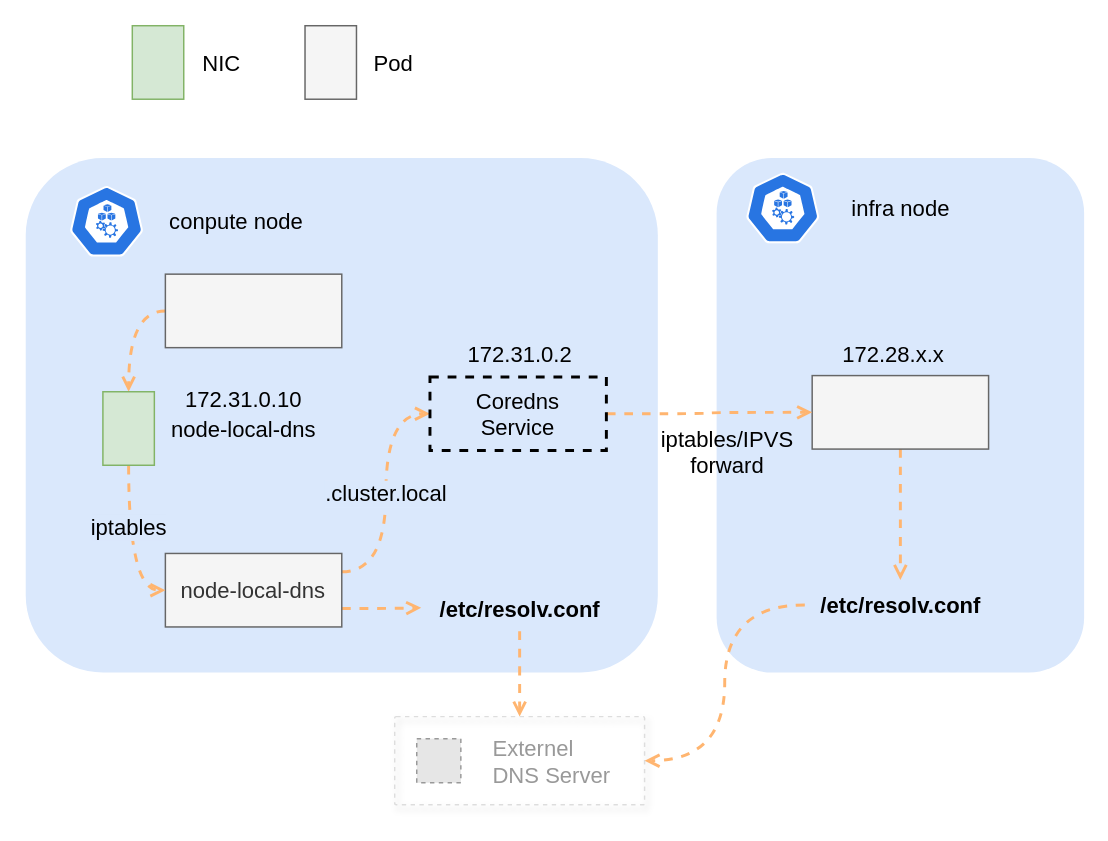
Image size: 1108x841. Some labels were removed from this diagram. Grey dashed boxes stand in for pictures. The shapes that lost their labels are listed below. From the top down, each one's centre as x and y in pixels, then its label:
At point 253,310: "Application".
At point 900,411: "coredns".
